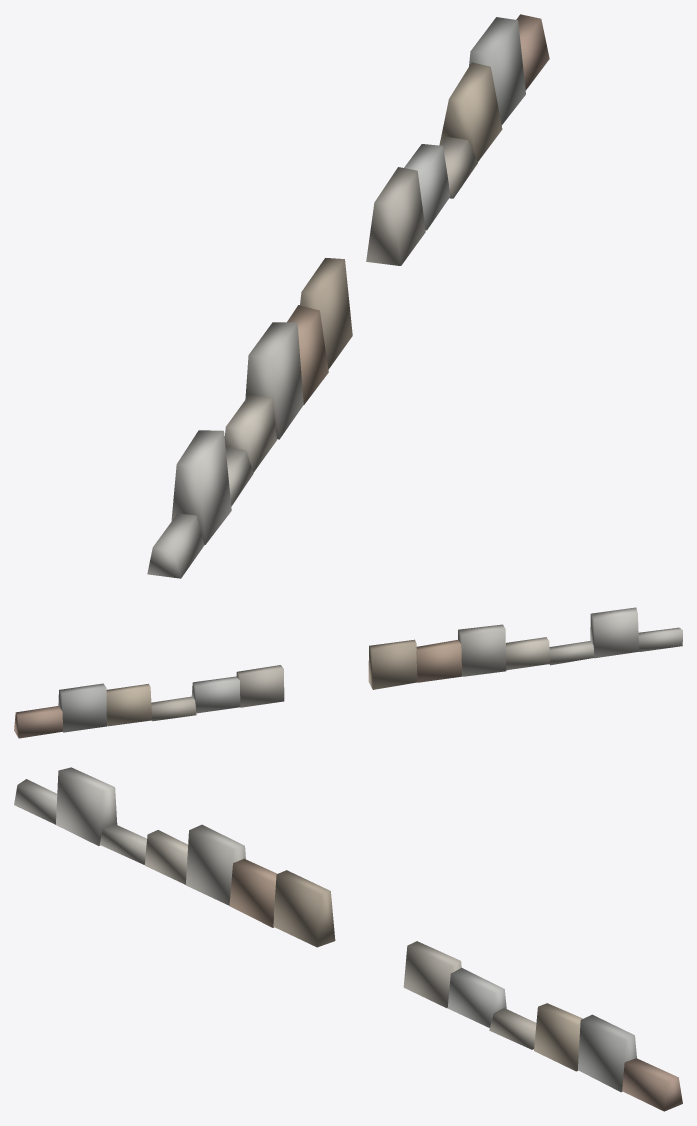
The model's file is farm_-54_-52_far.glb.
3 renders of one model, top to bottom at view 1: azimuth 30°, elevation 25°; view 2: azimuth 150°, elevation 25°; view 3: azimuth 270°, elevation 25°, orthographic. The views are drawn at different scales.
Visible parts, largest first — view 1: geometry_0; view 2: geometry_0; view 3: geometry_0.
Boxes of the visible parts, x1,y1,x2,y2 form: geometry_0: [147, 14, 549, 578]; geometry_0: [14, 607, 682, 738]; geometry_0: [14, 767, 682, 1111].
Size of the model in its own units: 16.57 by 2.08 by 16.28.
